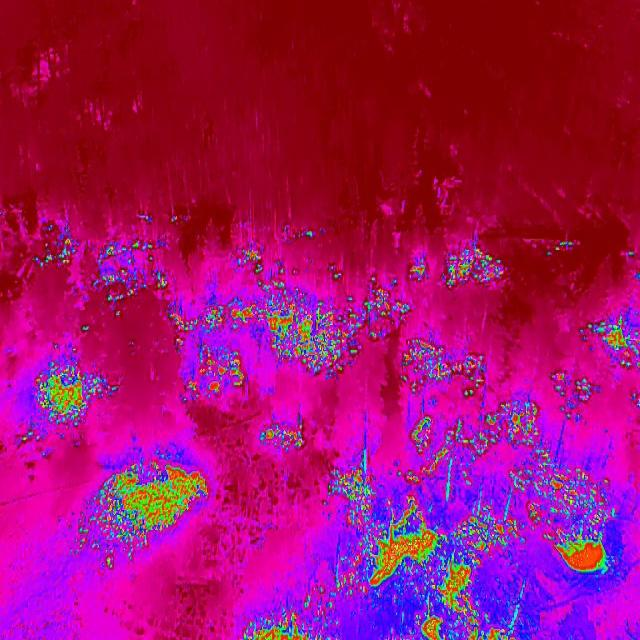fire: (167, 266, 411, 406), (74, 461, 208, 572), (514, 452, 617, 590), (402, 396, 548, 492), (336, 502, 450, 596), (22, 357, 122, 441), (401, 333, 494, 407), (88, 238, 172, 318), (577, 304, 640, 378), (437, 237, 518, 292), (448, 502, 522, 562), (542, 360, 608, 425), (409, 600, 514, 640), (426, 557, 486, 612), (235, 611, 347, 640), (324, 463, 381, 515), (258, 415, 310, 457), (32, 232, 76, 268), (234, 240, 268, 274), (543, 236, 583, 256), (406, 256, 429, 286), (621, 246, 640, 262)
